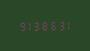eight: (41, 20, 48, 30)
nine: (17, 20, 24, 31)
one: (25, 20, 32, 31), (65, 19, 72, 30)
six: (49, 19, 56, 30)
three: (33, 20, 40, 31), (57, 19, 64, 30)
